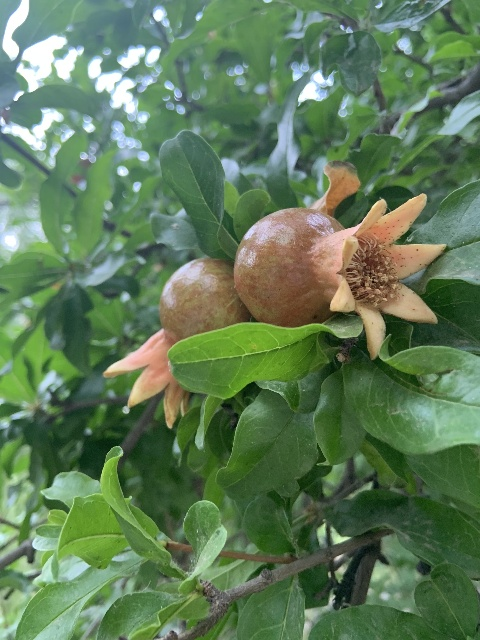early-fruit: (234, 191, 446, 359), (102, 256, 249, 429)
